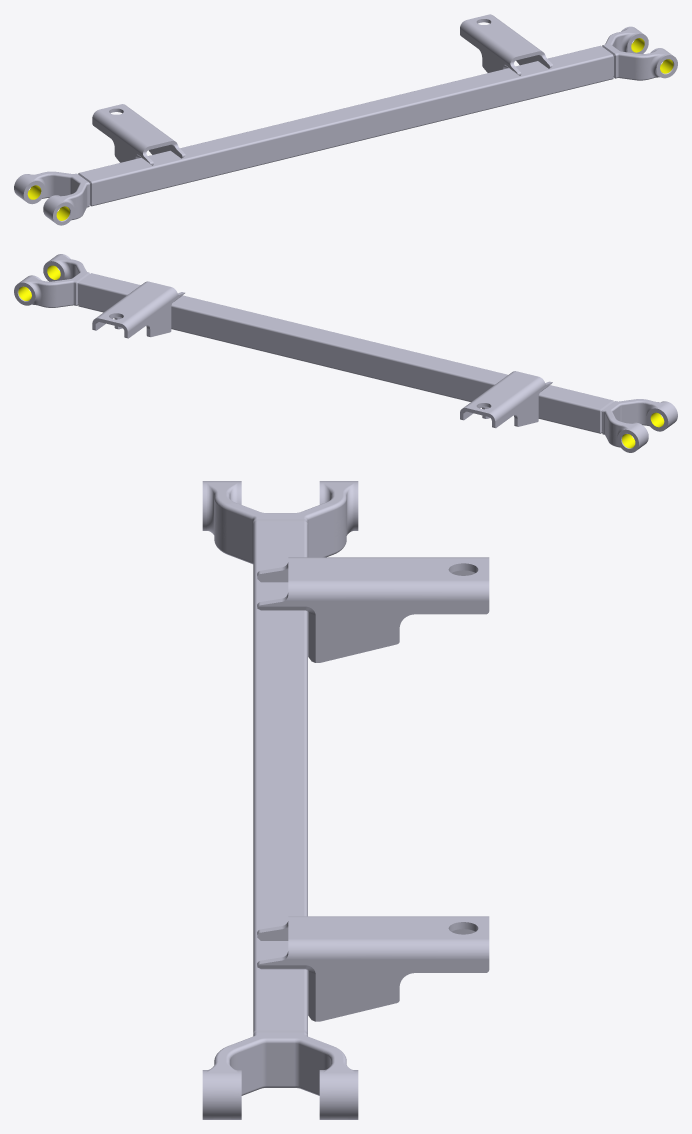
3 views of the same model, one above another, from view 1: azimuth 30°, elevation 25°; view 2: azimuth 150°, elevation 25°; view 3: azimuth 270°, elevation 25° (orthographic). The views are drawn at different scales.
Parts seen in each view (by area): view 1: Node1, Node2; view 2: Node1, Node2; view 3: Node1.
Part boxes in pixels (box(x1,y1,x2,y2)): Node1: box(14, 14, 677, 225); Node2: box(27, 38, 673, 220); Node1: box(14, 254, 677, 452); Node2: box(18, 265, 664, 448); Node1: box(202, 481, 489, 1119).
Size of the model in its own units: 1854 by 108 by 368.
